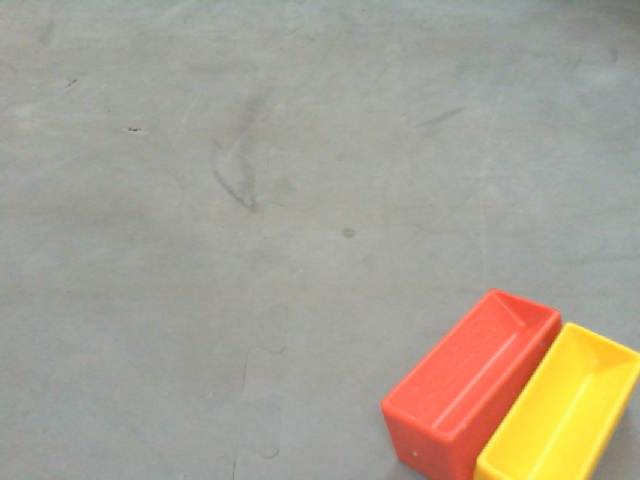RedSample: (377, 285, 563, 480)
YellowSample: (471, 319, 639, 479)
